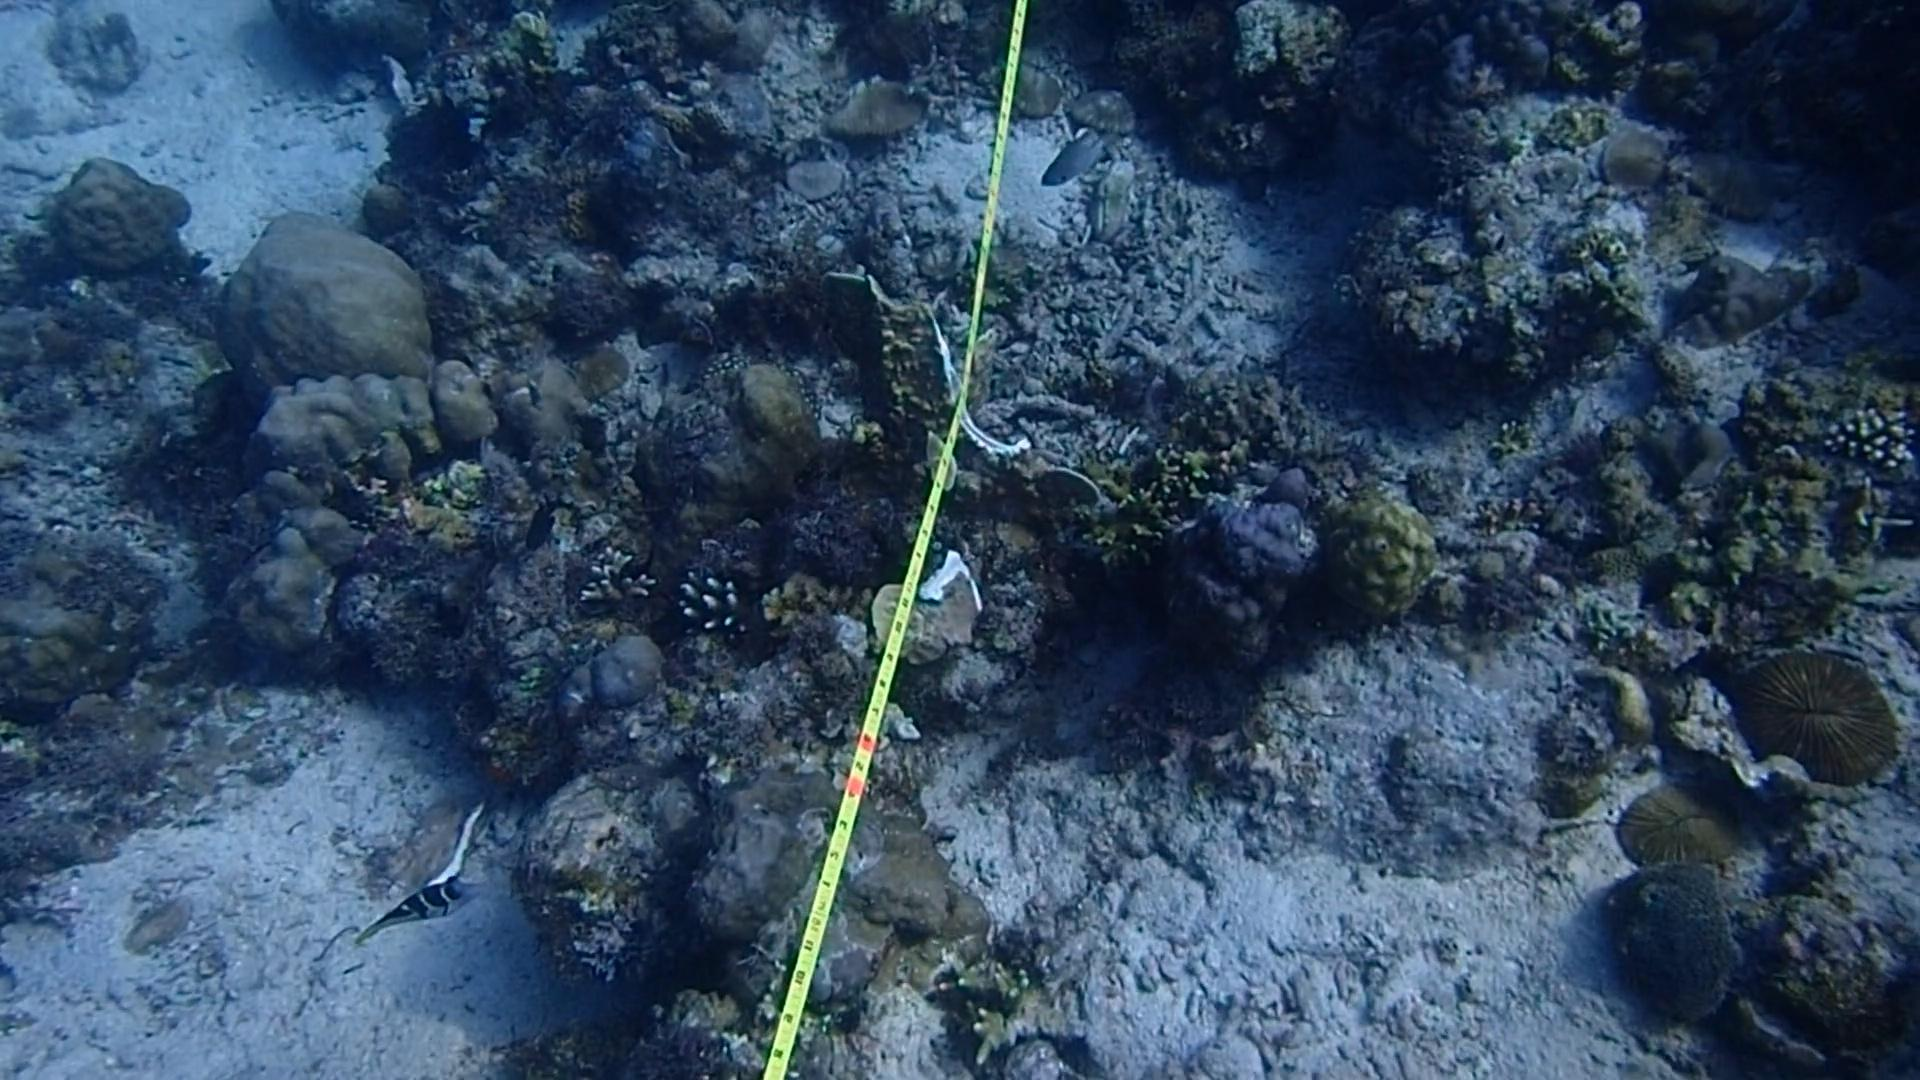Striped Fish: (352, 861, 500, 963)
